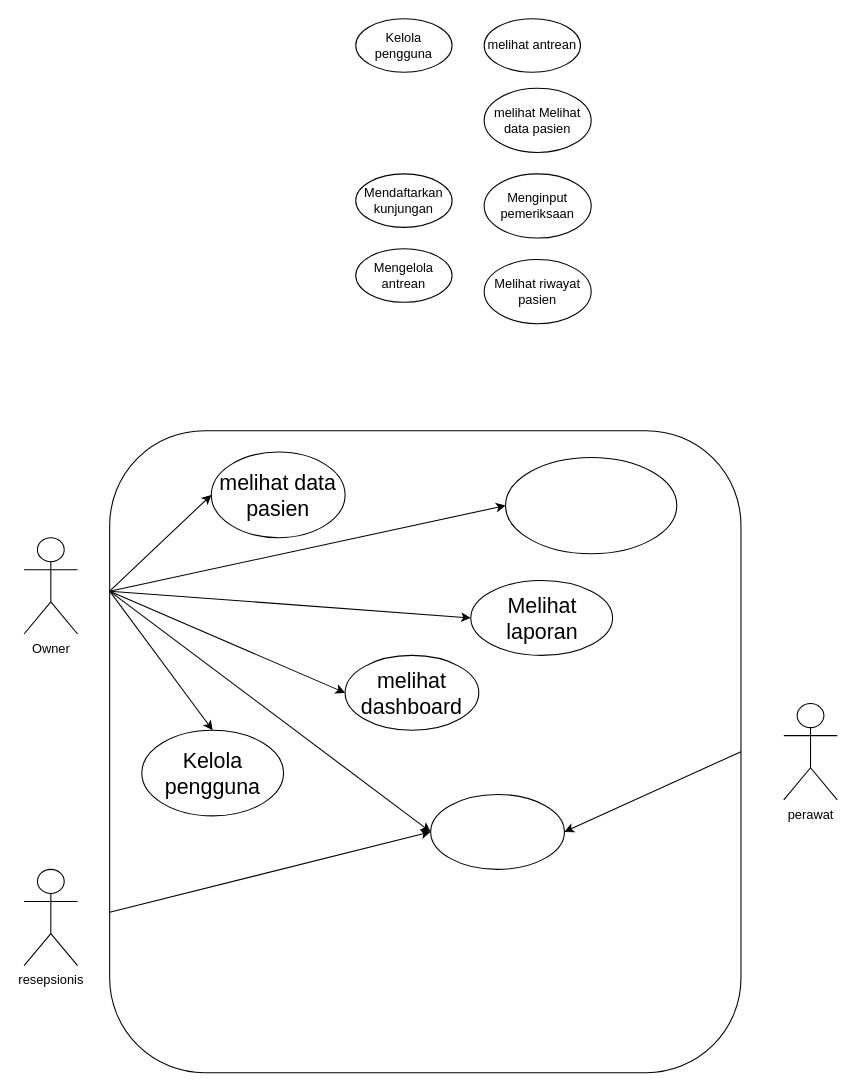
Some shapes in this 856 by 1091 pixel diagram are drawn without their labels. The shapes that lost their labels are listed below. From the top down, each one's centre as x and y in pixels, then its label:
pixel 591 505: melihat data kujungan
pixel 497 831: Login
